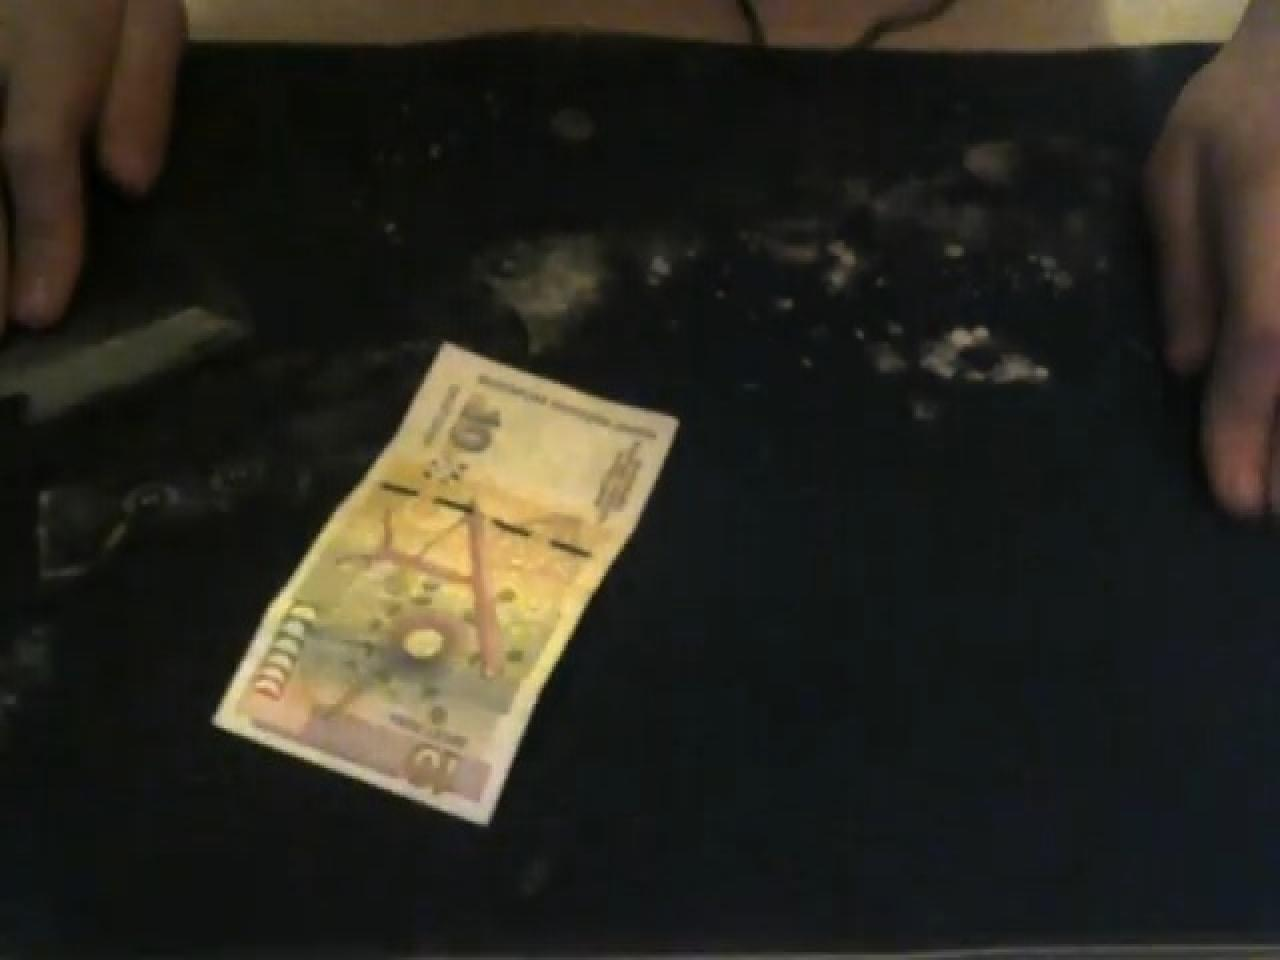10leva: (210, 347, 682, 832)
